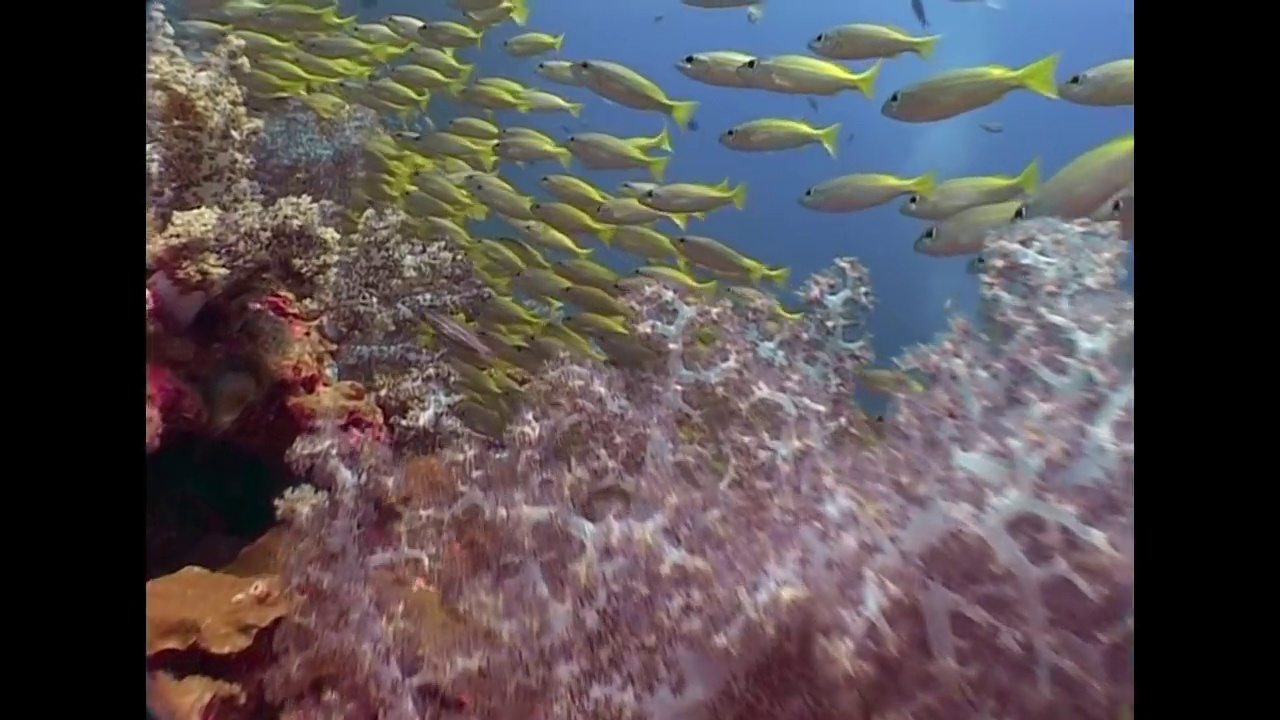big eye snapper: (876, 48, 1058, 126), (573, 48, 691, 127), (907, 189, 1031, 262), (904, 157, 1039, 221), (667, 225, 785, 292), (734, 52, 874, 100), (793, 172, 927, 210), (713, 118, 840, 158), (562, 128, 665, 176), (1054, 52, 1132, 111), (803, 25, 934, 59), (643, 176, 742, 215), (599, 221, 678, 264), (297, 28, 386, 64), (536, 164, 608, 206), (676, 50, 751, 90), (559, 304, 636, 341), (553, 250, 630, 286), (409, 164, 474, 206), (393, 126, 483, 154), (475, 292, 541, 330), (412, 15, 483, 50), (554, 284, 629, 317), (476, 175, 534, 217), (519, 216, 577, 256), (230, 66, 304, 97), (363, 73, 426, 108), (469, 231, 523, 270), (488, 135, 565, 161), (226, 29, 297, 57), (488, 135, 563, 161), (399, 185, 453, 219), (509, 264, 567, 295), (456, 86, 519, 111), (501, 33, 564, 52), (500, 28, 563, 47), (331, 73, 372, 102), (533, 59, 577, 75)
